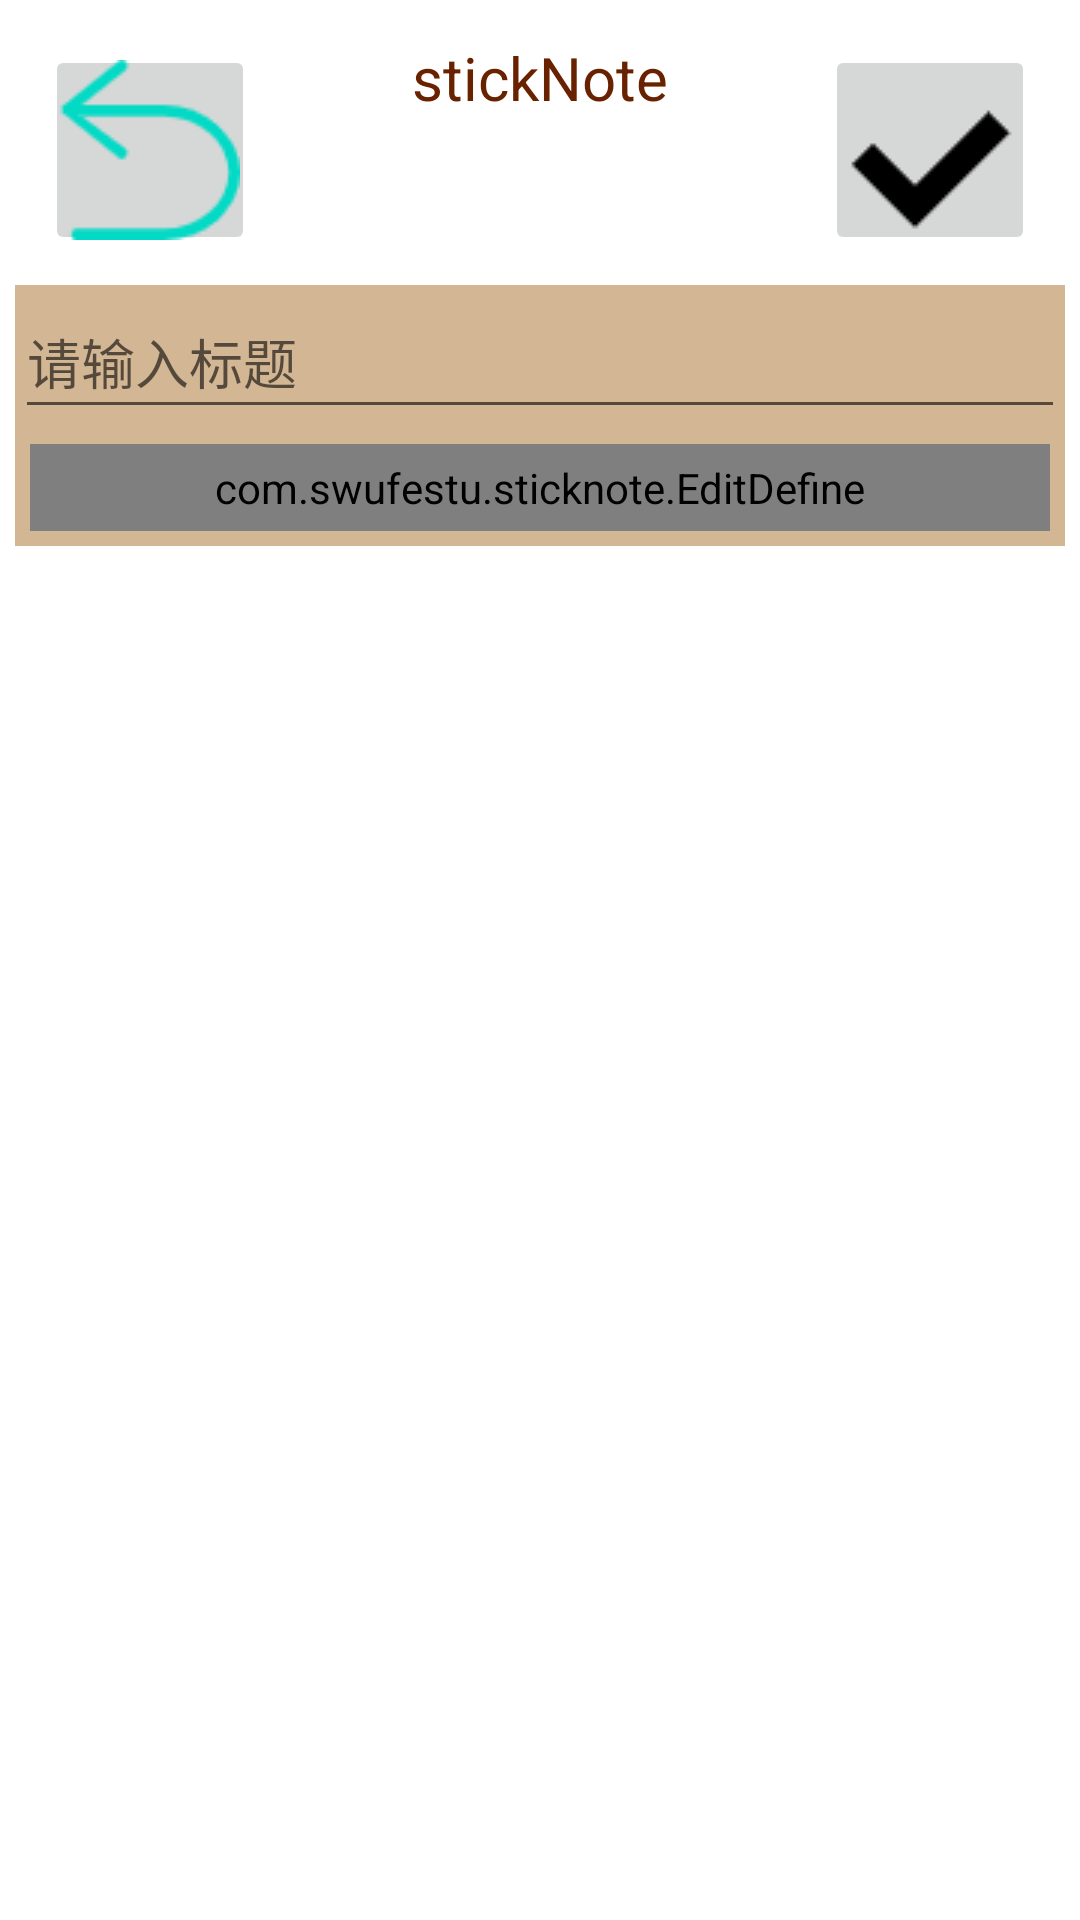

Icon click points for this 1080px×1920px phone screenshot, format point (x, y):
back: point (150, 150)
right: point (930, 150)
